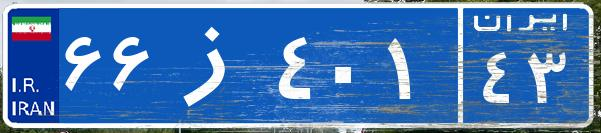0: (330, 28, 385, 110)
1: (385, 28, 445, 110)
3: (525, 38, 570, 115)
4: (273, 28, 330, 110), (475, 38, 525, 113)
6: (57, 26, 110, 107), (110, 28, 158, 105)
ز: (158, 15, 273, 115)
